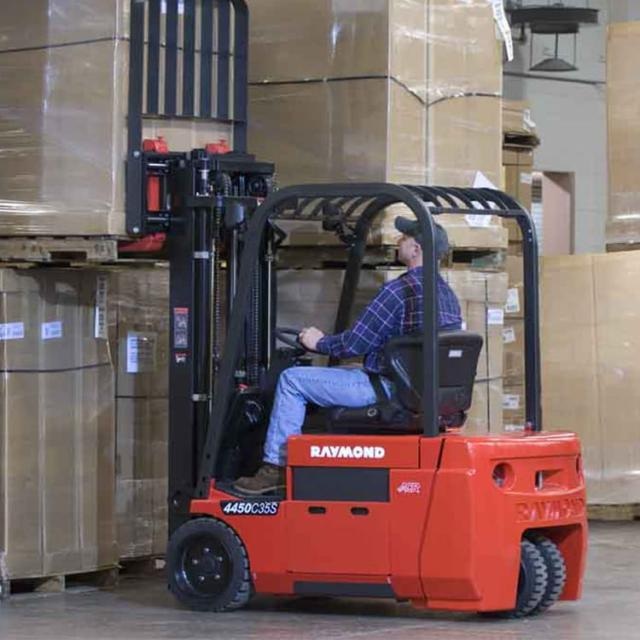driver: (234, 210, 463, 498)
forklift: (88, 114, 604, 618)
